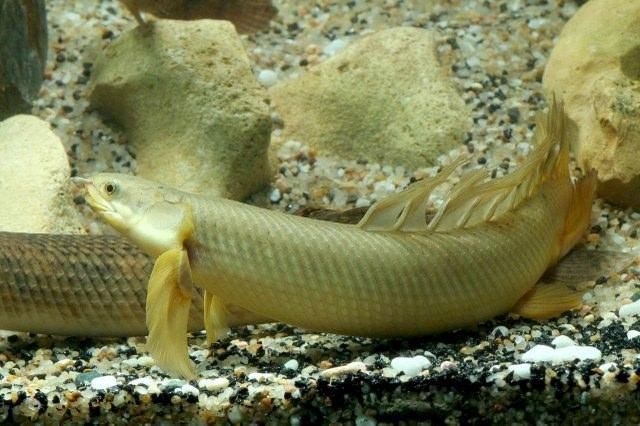Mulut: (63, 160, 114, 218)
Sirip Anal: (550, 239, 638, 269)
Sirip Dada: (128, 214, 242, 384)
Sirip Perut: (488, 269, 592, 335)
Sirip Punggung: (358, 85, 580, 239)
